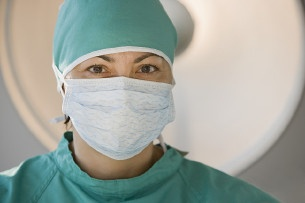Mask: (61, 45, 176, 161)
